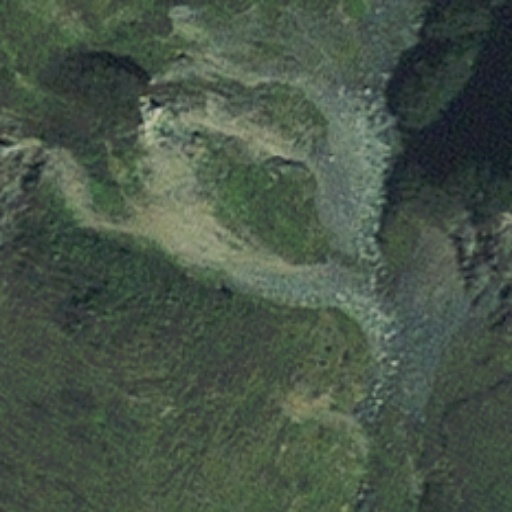landslide: (104, 100, 287, 269)
